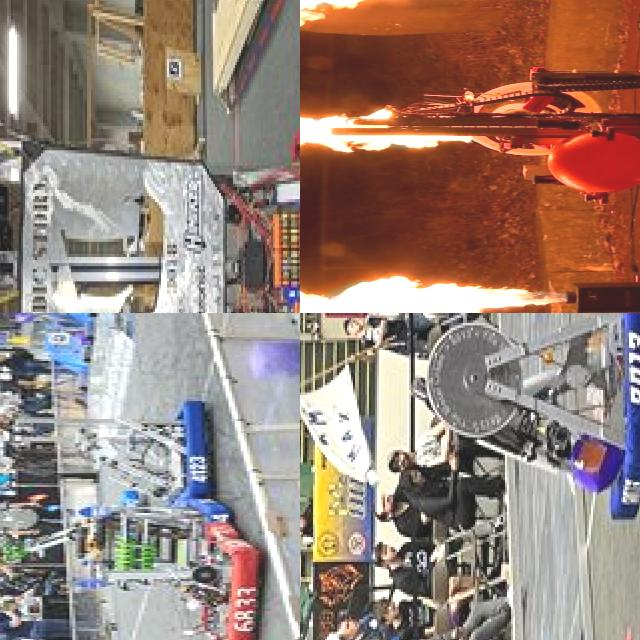FRC-Robots: (0, 0, 300, 313), (340, 313, 640, 606), (307, 36, 640, 259), (53, 489, 231, 599), (91, 380, 218, 490), (186, 534, 296, 634)
